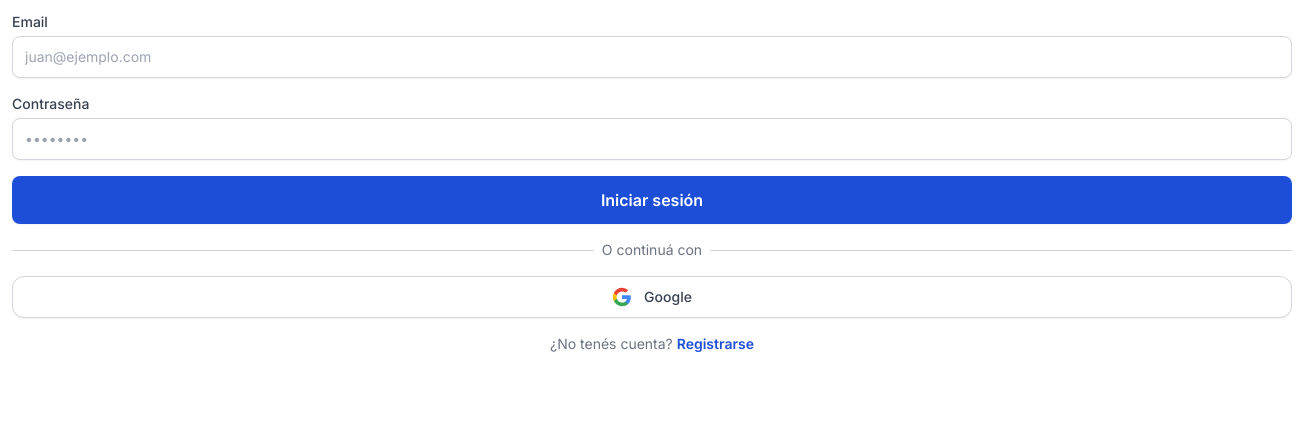
Test case: LoginForm › muestra error si los campos están vacíos
Click the button "Iniciar sesión" at (652, 200), box [12,176,1292,224]
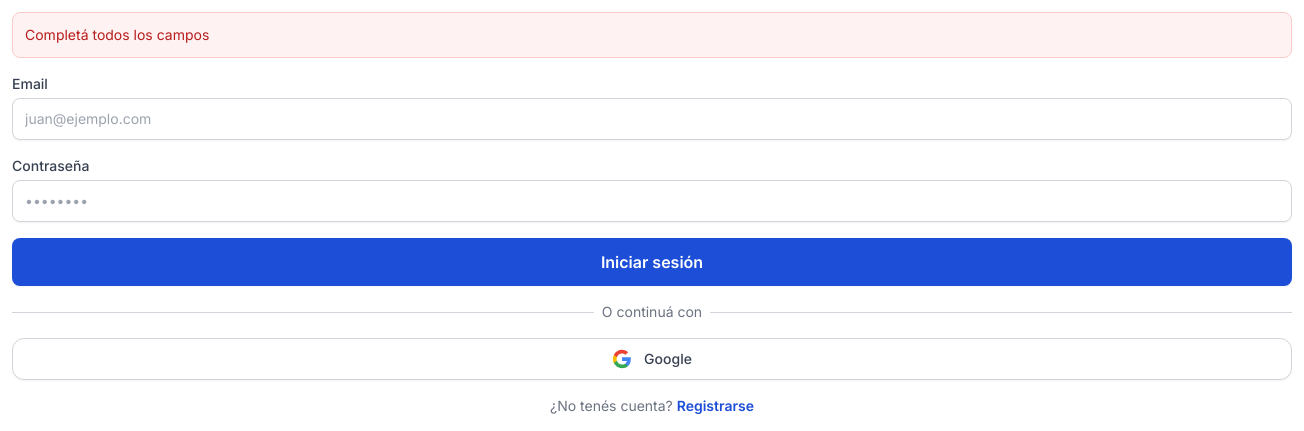
Check: the text "Completá todos los campos" is shown, box [12,12,1292,58]
